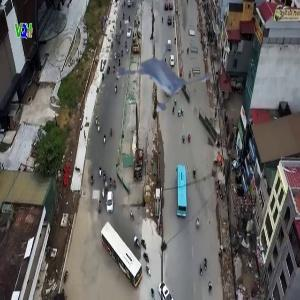drone: (98, 29, 204, 135)
